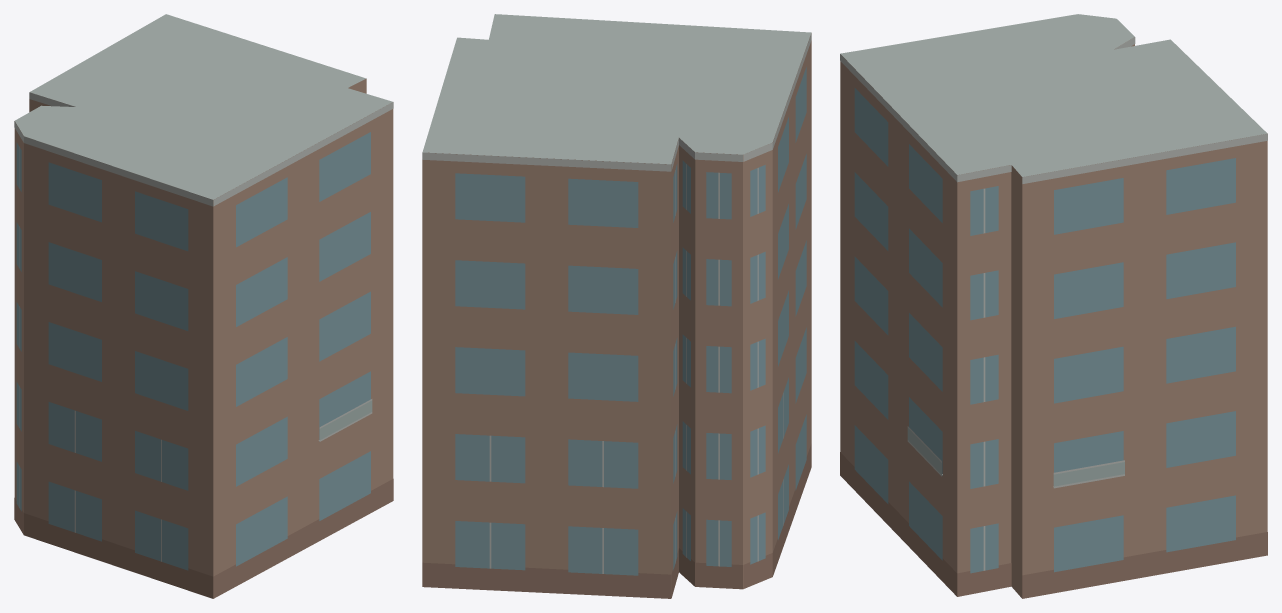
The model's file is survey-upis-32866922.glb.
3 renders of one model, left to right at view 1: azimuth 30°, elevation 25°; view 2: azimuth 150°, elevation 25°; view 3: azimuth 270°, elevation 25°, orthographic. The views are drawn at different scales.
Visible parts, largest first — view 1: survey-upis-32866922.tmp; view 2: survey-upis-32866922.tmp; view 3: survey-upis-32866922.tmp.
Boxes of the visible parts, x1=… form: survey-upis-32866922.tmp: x1=14, y1=14, x2=393, y2=598; survey-upis-32866922.tmp: x1=422, y1=14, x2=811, y2=598; survey-upis-32866922.tmp: x1=840, y1=14, x2=1267, y2=598.
Size of the model in its own units: 11.95 by 14.4 by 13.24.
